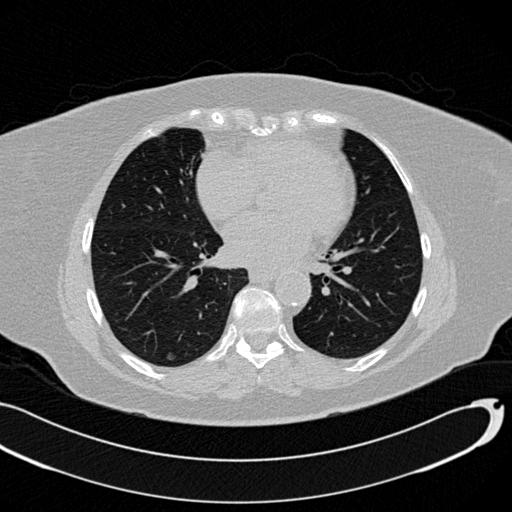nodule: (165, 351, 176, 362)
